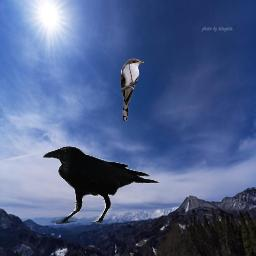Crow: (42, 146, 161, 225)
Cuckoo: (120, 58, 144, 121)
